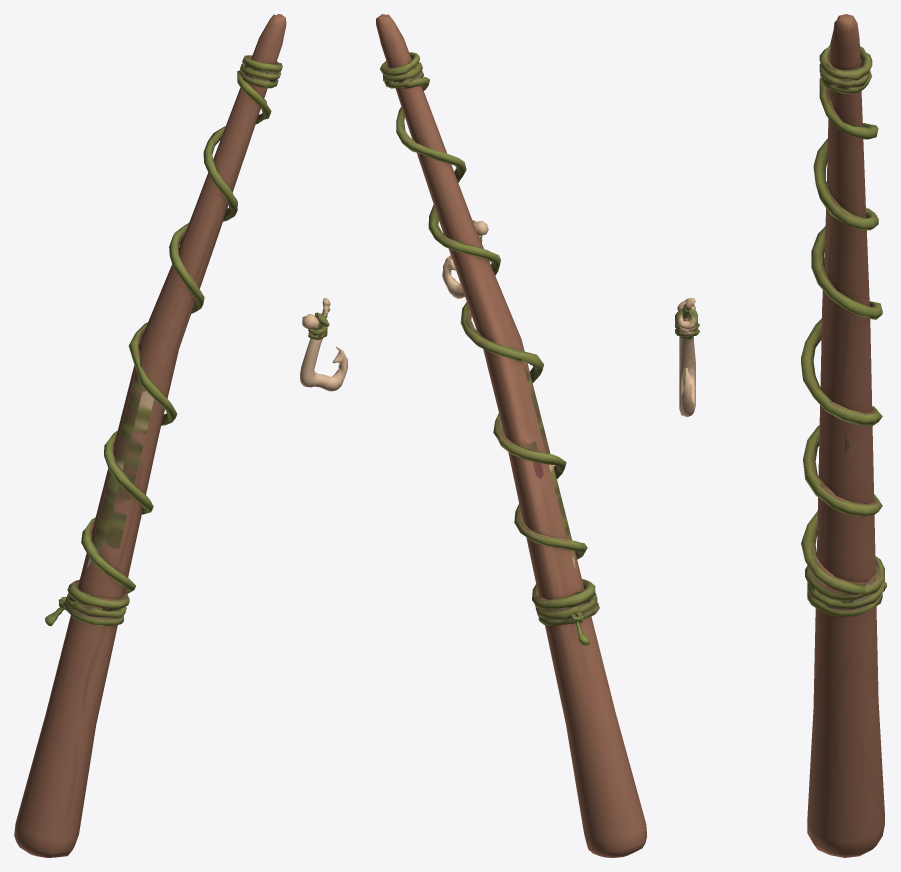
The model's file is vine-fishing-rod.glb.
3 renders of one model, left to right at view 1: azimuth 30°, elevation 25°; view 2: azimuth 150°, elevation 25°; view 3: azimuth 270°, elevation 25°, orthographic. The views are drawn at different scales.
Visible parts, largest first — view 1: Bone Hook Pole; view 2: Bone Hook Pole; view 3: Bone Hook Pole.
Part boxes in pixels (left/top/right/bottom): Bone Hook Pole: left=14, top=14, right=347, bottom=857; Bone Hook Pole: left=376, top=14, right=646, bottom=857; Bone Hook Pole: left=675, top=14, right=886, bottom=857.
Size of the model in its own units: 0.3574 by 0.998 by 0.1973.
Materials: 1 (1 with a texture image).
